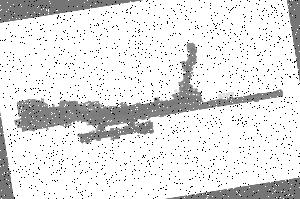rifle: (3, 32, 290, 167)
sniper: (8, 29, 298, 156)
